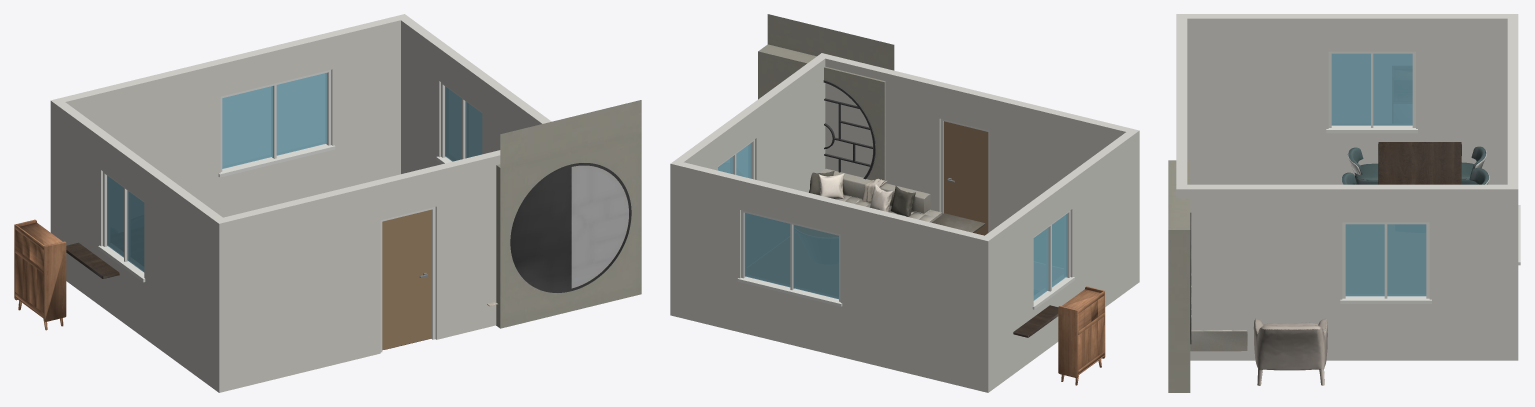
Rendered from instructscene.glb.
The picture shows the model from 3 angles, left to right: view 1: azimuth 30°, elevation 25°; view 2: azimuth 150°, elevation 25°; view 3: azimuth 270°, elevation 25°; orthographic projection. The views are drawn at different scales.
Visible parts, largest first — view 1: wall|scenesmith_010__R00|0, wall|scenesmith_010__R00|1, raw_model.002, wall|scenesmith_010__R00|2, wall|scenesmith_010__R00|3, wall|scenesmith_010__R00|1 Window 0 | glazing, wall|scenesmith_010__R00|0 Door 0 | wood leaf, raw_model.001, wall|scenesmith_010__R00|2 Window 0 | glazing, wall|scenesmith_010__R00|1 Window 0 | jamb, wall|scenesmith_010__R00|3 Window 0 | glazing, wall|scenesmith_010__R00|2 Window 0 | jamb (+3 smaller); view 2: wall|scenesmith_010__R00|1, wall|scenesmith_010__R00|0, wall|scenesmith_010__R00|2, wall|scenesmith_010__R00|3, raw_model.002, wall|scenesmith_010__R00|1 Window 0 | glazing, wall|scenesmith_010__R00|0 Door 0 | wood leaf, raw_model.001, solid_001.001, wall|scenesmith_010__R00|2 Window 0 | glazing, wall|scenesmith_010__R00|1 Window 0 | jamb, wall|scenesmith_010__R00|2 Window 0 | jamb (+4 smaller); view 3: wall|scenesmith_010__R00|3, wall|scenesmith_010__R00|2, wall|scenesmith_010__R00|2 Window 0 | glazing, wall|scenesmith_010__R00|3 Window 0 | glazing, raw_model.002, wall|scenesmith_010__R00|1, raw_model.003, raw_model, wall|scenesmith_010__R00|0, wall|scenesmith_010__R00|2 Window 0 | jamb, wall|scenesmith_010__R00|3 Window 0 | jamb, raw_model.004 (+1 smaller).
Part boxes in pixels (x1=…): wall|scenesmith_010__R00|0: x1=213, y1=150, x2=500, y2=392; wall|scenesmith_010__R00|1: x1=50, y1=14, x2=409, y2=236; raw_model.002: x1=496, y1=100, x2=641, y2=328; wall|scenesmith_010__R00|2: x1=52, y1=101, x2=228, y2=392; wall|scenesmith_010__R00|3: x1=396, y1=14, x2=551, y2=173; wall|scenesmith_010__R00|1 Window 0 | glazing: x1=222, y1=73, x2=327, y2=168; wall|scenesmith_010__R00|0 Door 0 | wood leaf: x1=382, y1=209, x2=431, y2=350; raw_model.001: x1=14, y1=219, x2=66, y2=330; wall|scenesmith_010__R00|2 Window 0 | glazing: x1=107, y1=175, x2=144, y2=272; wall|scenesmith_010__R00|1 Window 0 | jamb: x1=218, y1=70, x2=335, y2=177; wall|scenesmith_010__R00|3 Window 0 | glazing: x1=445, y1=86, x2=482, y2=161; wall|scenesmith_010__R00|2 Window 0 | jamb: x1=98, y1=171, x2=145, y2=282; wall|scenesmith_010__R00|1: x1=676, y1=161, x2=992, y2=392; wall|scenesmith_010__R00|0: x1=817, y1=53, x2=1139, y2=285; wall|scenesmith_010__R00|2: x1=980, y1=132, x2=1134, y2=392; wall|scenesmith_010__R00|3: x1=670, y1=56, x2=825, y2=317; raw_model.002: x1=758, y1=14, x2=894, y2=183; wall|scenesmith_010__R00|1 Window 0 | glazing: x1=744, y1=213, x2=838, y2=299; wall|scenesmith_010__R00|0 Door 0 | wood leaf: x1=943, y1=121, x2=988, y2=235; raw_model.001: x1=1058, y1=286, x2=1105, y2=385; solid_001.001: x1=809, y1=168, x2=942, y2=222; wall|scenesmith_010__R00|2 Window 0 | glazing: x1=1033, y1=214, x2=1066, y2=300; wall|scenesmith_010__R00|1 Window 0 | jamb: x1=737, y1=210, x2=842, y2=306; wall|scenesmith_010__R00|2 Window 0 | jamb: x1=1032, y1=210, x2=1074, y2=309; wall|scenesmith_010__R00|3: x1=1187, y1=184, x2=1518, y2=360; wall|scenesmith_010__R00|2: x1=1187, y1=14, x2=1515, y2=184; wall|scenesmith_010__R00|2 Window 0 | glazing: x1=1331, y1=53, x2=1412, y2=125; wall|scenesmith_010__R00|3 Window 0 | glazing: x1=1345, y1=224, x2=1426, y2=296; raw_model.002: x1=1168, y1=160, x2=1191, y2=392; wall|scenesmith_010__R00|1: x1=1507, y1=14, x2=1518, y2=360; raw_model.003: x1=1253, y1=318, x2=1327, y2=385; raw_model: x1=1378, y1=142, x2=1461, y2=184; wall|scenesmith_010__R00|0: x1=1176, y1=14, x2=1187, y2=198; wall|scenesmith_010__R00|2 Window 0 | jamb: x1=1326, y1=51, x2=1417, y2=133; wall|scenesmith_010__R00|3 Window 0 | jamb: x1=1340, y1=222, x2=1431, y2=303; raw_model.004: x1=1341, y1=146, x2=1489, y2=184.
Size of the model in its own units: 7.86 by 3 by 4.84.
Materials: 15 (9 with a texture image).
